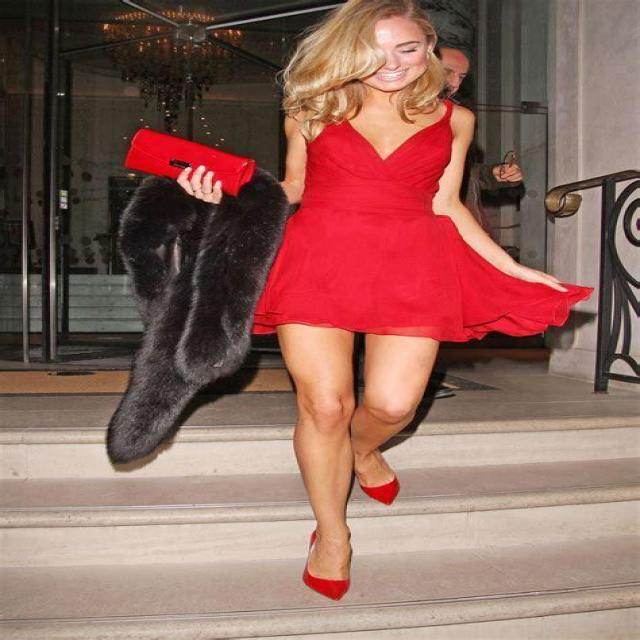dress: (251, 99, 592, 341)
